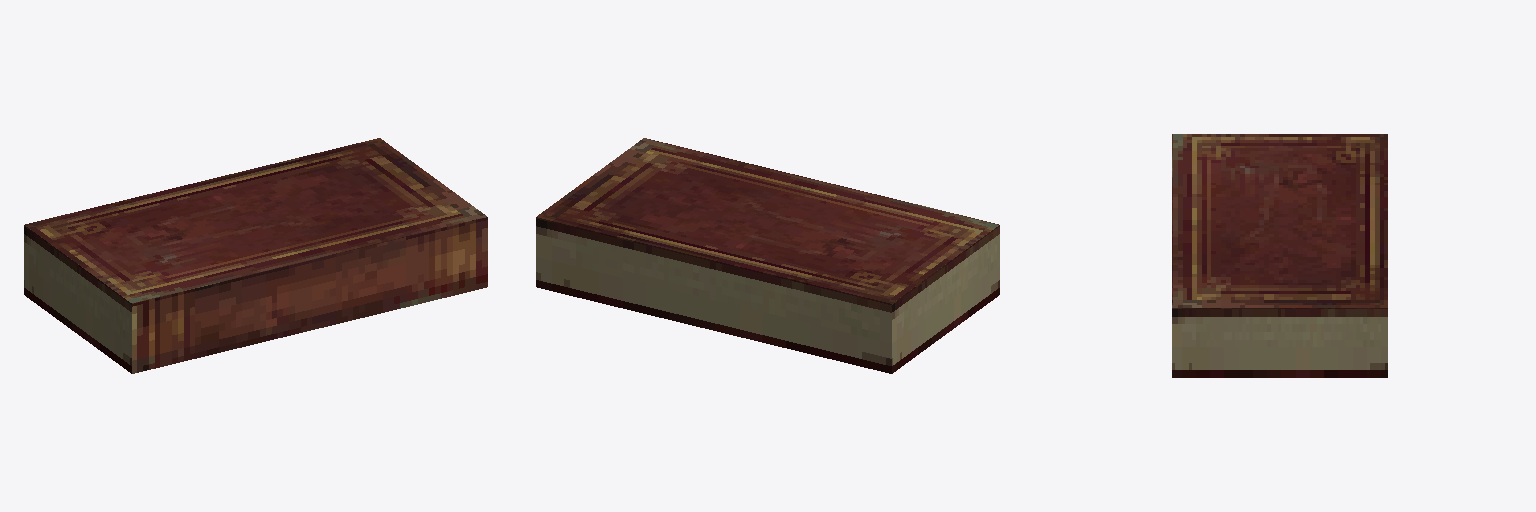
The picture shows the model from 3 angles: view 1: azimuth 30°, elevation 25°; view 2: azimuth 150°, elevation 25°; view 3: azimuth 270°, elevation 25°; orthographic projection.
Visible parts, largest first — view 1: object 1; view 2: object 1; view 3: object 1.
Part boxes in pixels (bbox=[...]): object 1: bbox=[24, 138, 487, 373]; object 1: bbox=[536, 138, 999, 373]; object 1: bbox=[1172, 134, 1387, 377].
Bounding box in the file's own units: 0.7159 × 0.135 × 0.3773.
Materials: 1 (1 with a texture image).